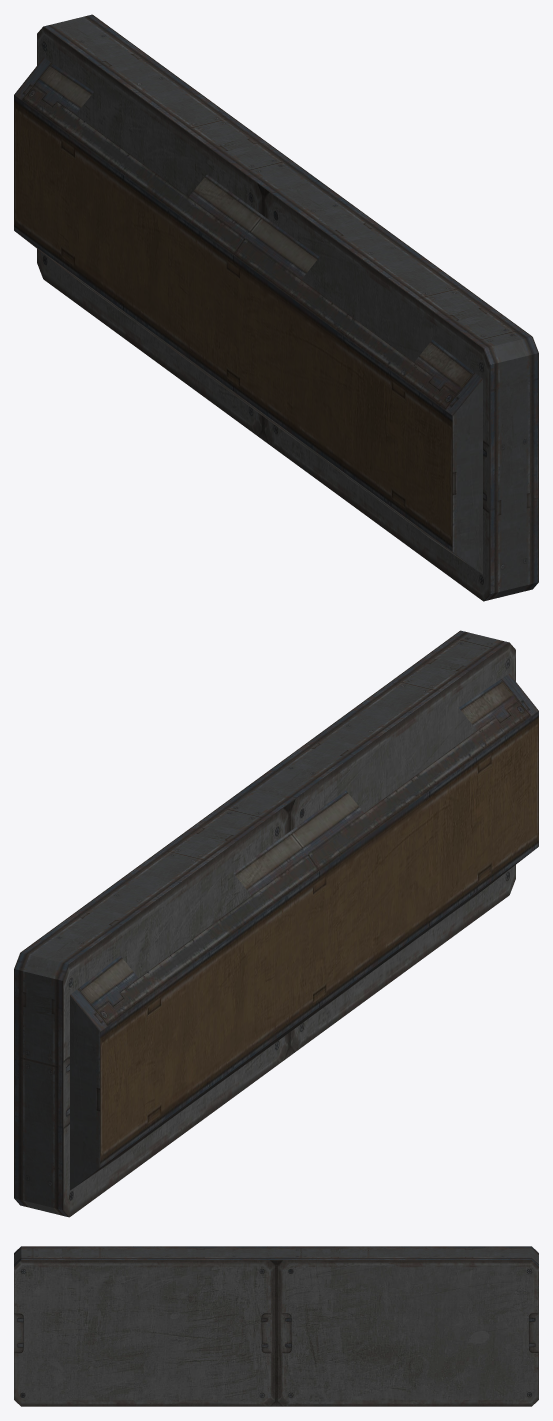
File: Structure1_Roof1_Edge_Short_L2.fbx
3 renders of one model, top to bottom at view 1: azimuth 30°, elevation 25°; view 2: azimuth 150°, elevation 25°; view 3: azimuth 270°, elevation 25°, orthographic. The views are drawn at different scales.
Visible parts, largest first — view 1: Structure1_Roof1_Edge_Short_L2; view 2: Structure1_Roof1_Edge_Short_L2; view 3: Structure1_Roof1_Edge_Short_L2.
Part boxes in pixels (left/top/right/bottom): Structure1_Roof1_Edge_Short_L2: left=14, top=14, right=538, bottom=601; Structure1_Roof1_Edge_Short_L2: left=14, top=630, right=538, bottom=1217; Structure1_Roof1_Edge_Short_L2: left=14, top=1246, right=538, bottom=1406.
Size of the model in its own units: 40.58 by 124 by 401.
